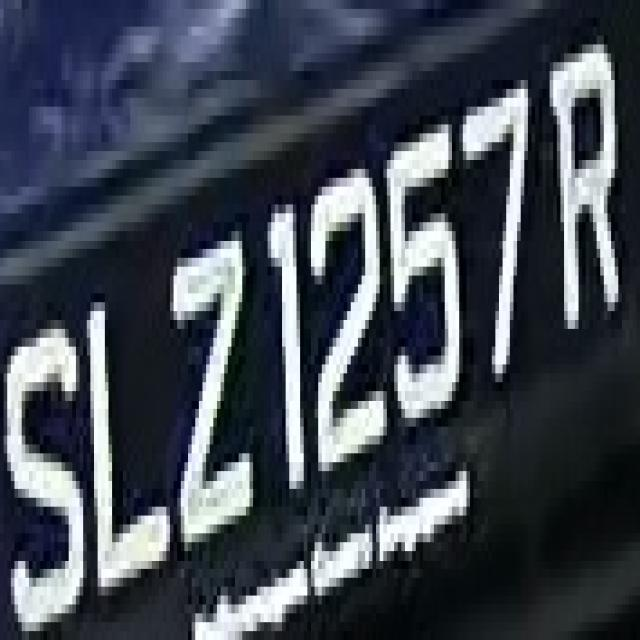1: (264, 142, 315, 542)
2: (304, 142, 391, 542)
5: (372, 98, 460, 462)
7: (448, 62, 536, 427)
L: (87, 267, 166, 613)
R: (535, 44, 626, 338)
Z: (159, 204, 253, 569)
